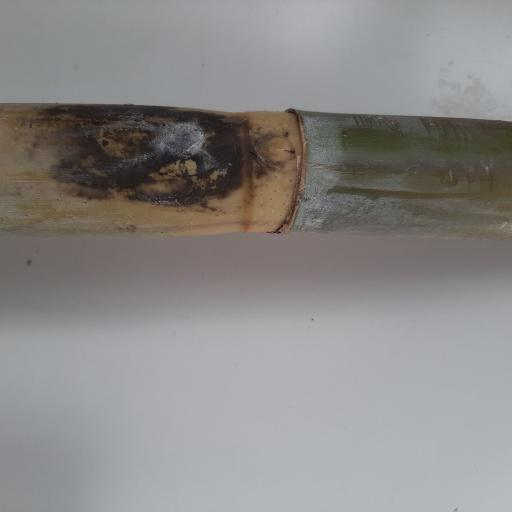Bud: (253, 133, 296, 168)
